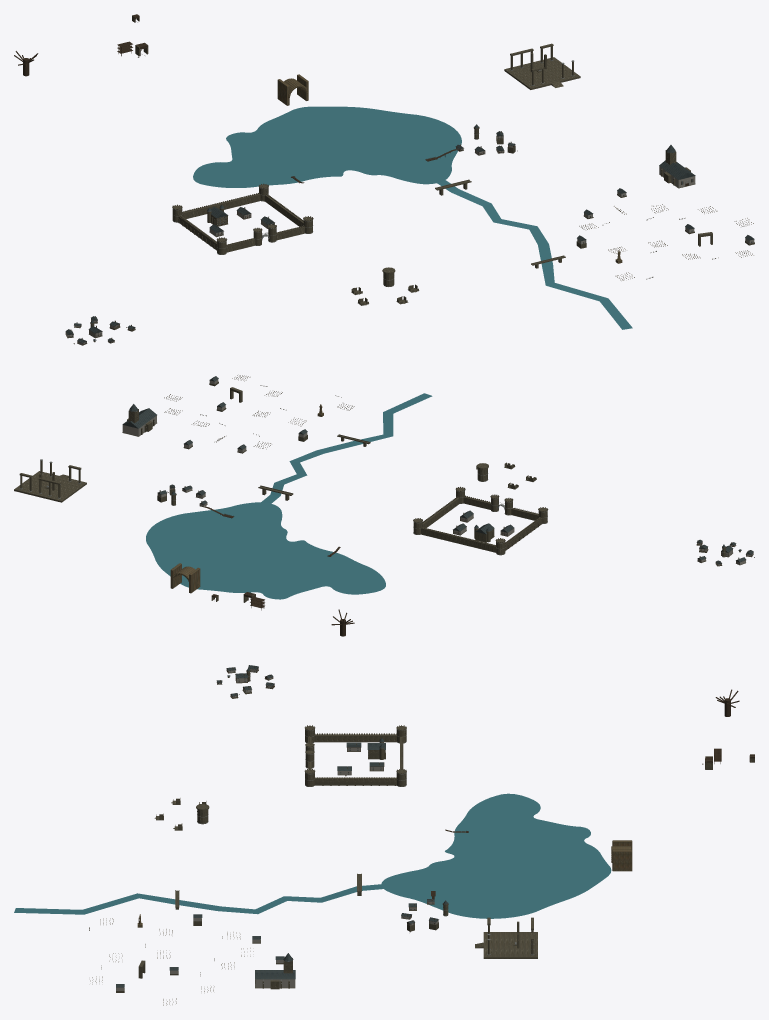
File: landmarks.glb
The picture shows the model from 3 angles, top to bottom: view 1: azimuth 30°, elevation 25°; view 2: azimuth 150°, elevation 25°; view 3: azimuth 270°, elevation 25°; orthographic projection. The views are drawn at different scales.
Parts seen in each view (by area): view 1: Lake_Level_40m, River_Outlet_To_South, SANCTUARY_plinth, FORT_north_wall; view 2: Lake_Level_40m, River_Outlet_To_South, SANCTUARY_plinth, FORT_north_wall; view 3: Lake_Level_40m, River_Outlet_To_South, SANCTUARY_plinth, FORT_eastwest-1, FORT_eastwest1.
Boxes of the visible parts, x1,y1,x2,y2 form: Lake_Level_40m: (193, 106, 461, 187); River_Outlet_To_South: (437, 180, 632, 329); SANCTUARY_plinth: (504, 57, 580, 89); FORT_north_wall: (182, 194, 260, 218); Lake_Level_40m: (146, 502, 385, 599); River_Outlet_To_South: (261, 393, 432, 503); SANCTUARY_plinth: (14, 471, 86, 502); FORT_north_wall: (421, 527, 495, 552); Lake_Level_40m: (381, 793, 611, 918); River_Outlet_To_South: (14, 884, 382, 914); SANCTUARY_plinth: (483, 932, 537, 958); FORT_eastwest-1: (314, 734, 396, 742); FORT_eastwest1: (314, 777, 396, 785).
Size of the model in its own units: 1241 by 158 by 1196.
11 materials, 5 textured.
